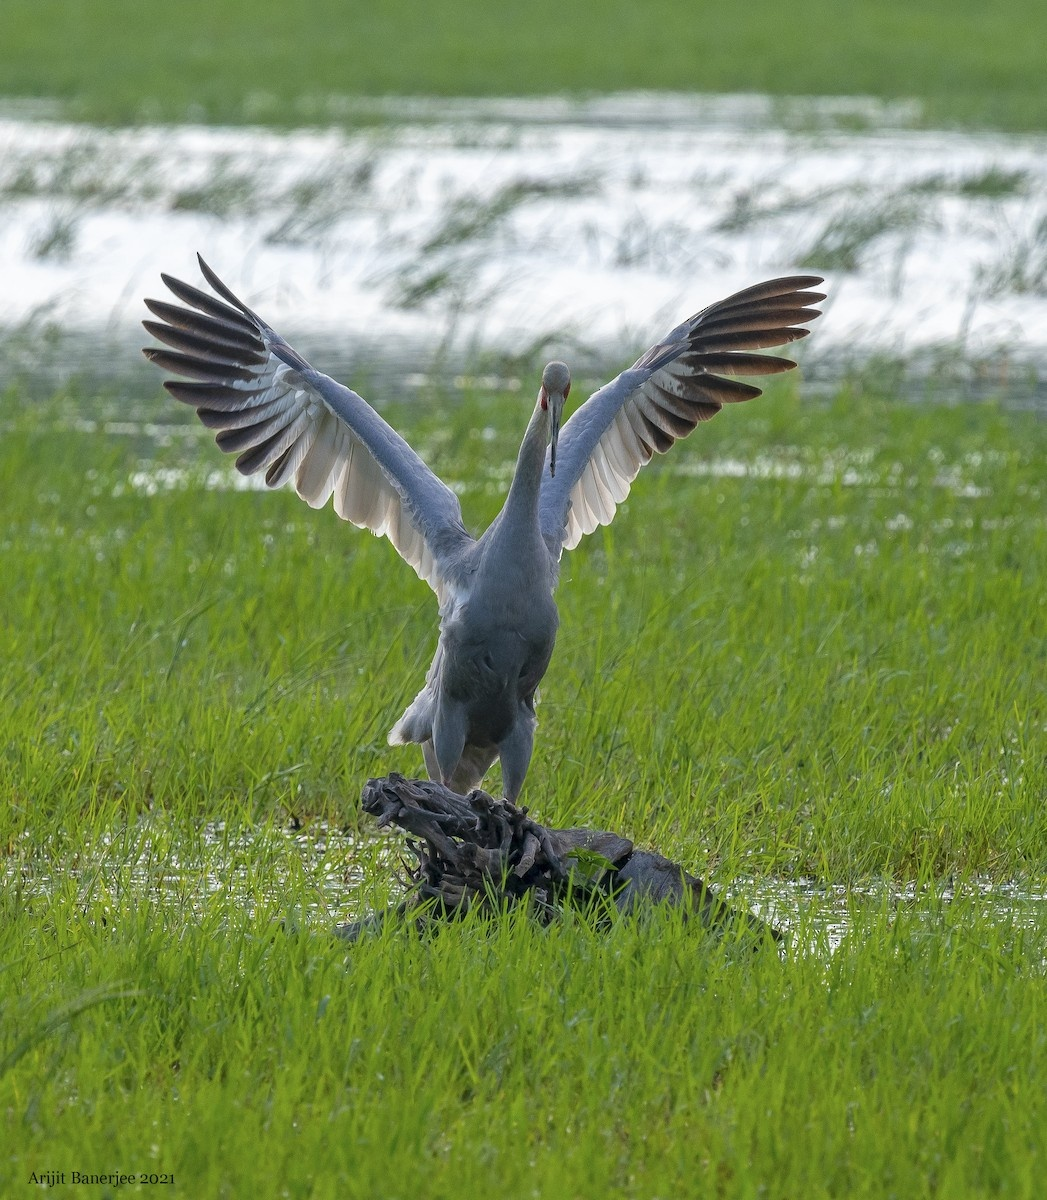crane: (168, 249, 830, 821)
